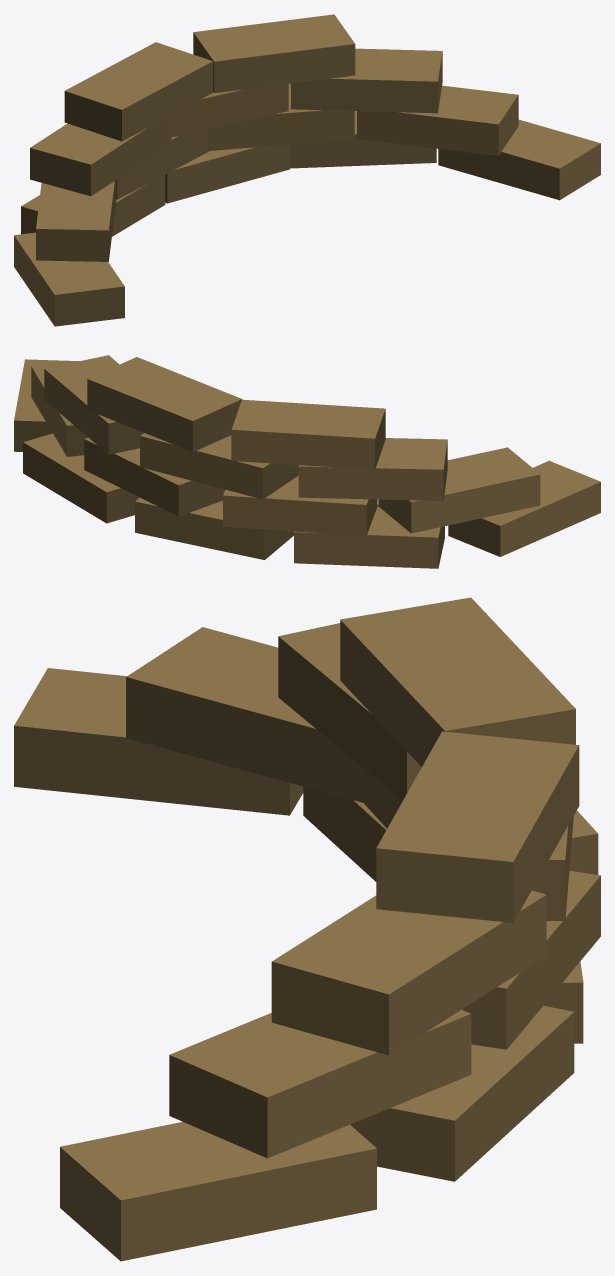
The model's file is SM_Prop_Sandbags_01.fbx.
3 renders of one model, top to bottom at view 1: azimuth 30°, elevation 25°; view 2: azimuth 150°, elevation 25°; view 3: azimuth 270°, elevation 25°, orthographic. The views are drawn at different scales.
Visible parts, largest first — view 1: SM_Prop_Sandbags_01; view 2: SM_Prop_Sandbags_01; view 3: SM_Prop_Sandbags_01.
Boxes of the visible parts, left/top/right/bottom form: SM_Prop_Sandbags_01: left=14, top=14, right=600, bottom=326; SM_Prop_Sandbags_01: left=14, top=355, right=600, bottom=568; SM_Prop_Sandbags_01: left=14, top=597, right=600, bottom=1261.
Size of the model in its own units: 6.69 by 1.43 by 3.12.
